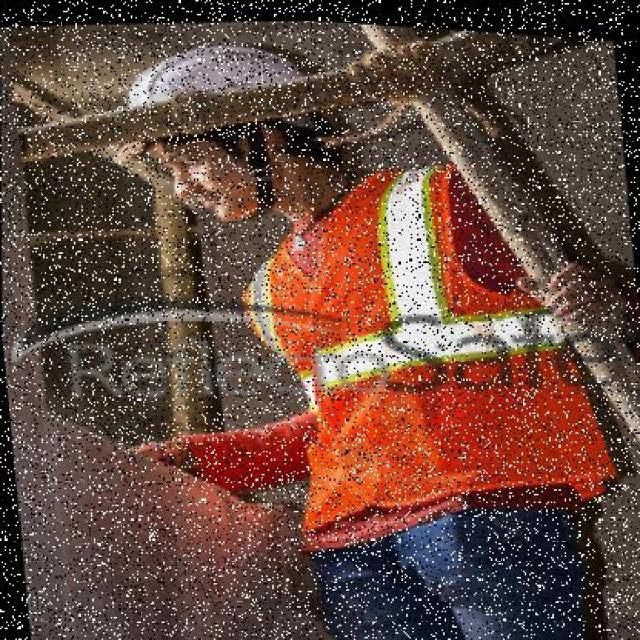vest: (220, 146, 620, 530)
